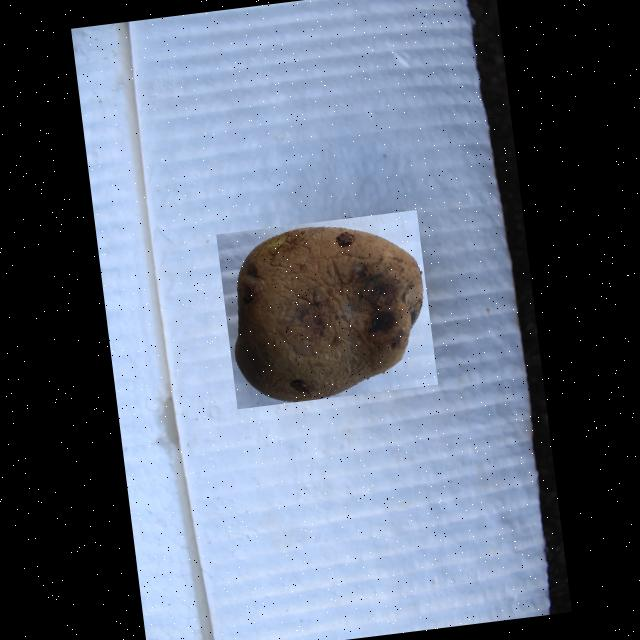Diseased-fungal potato: (214, 210, 436, 408)
